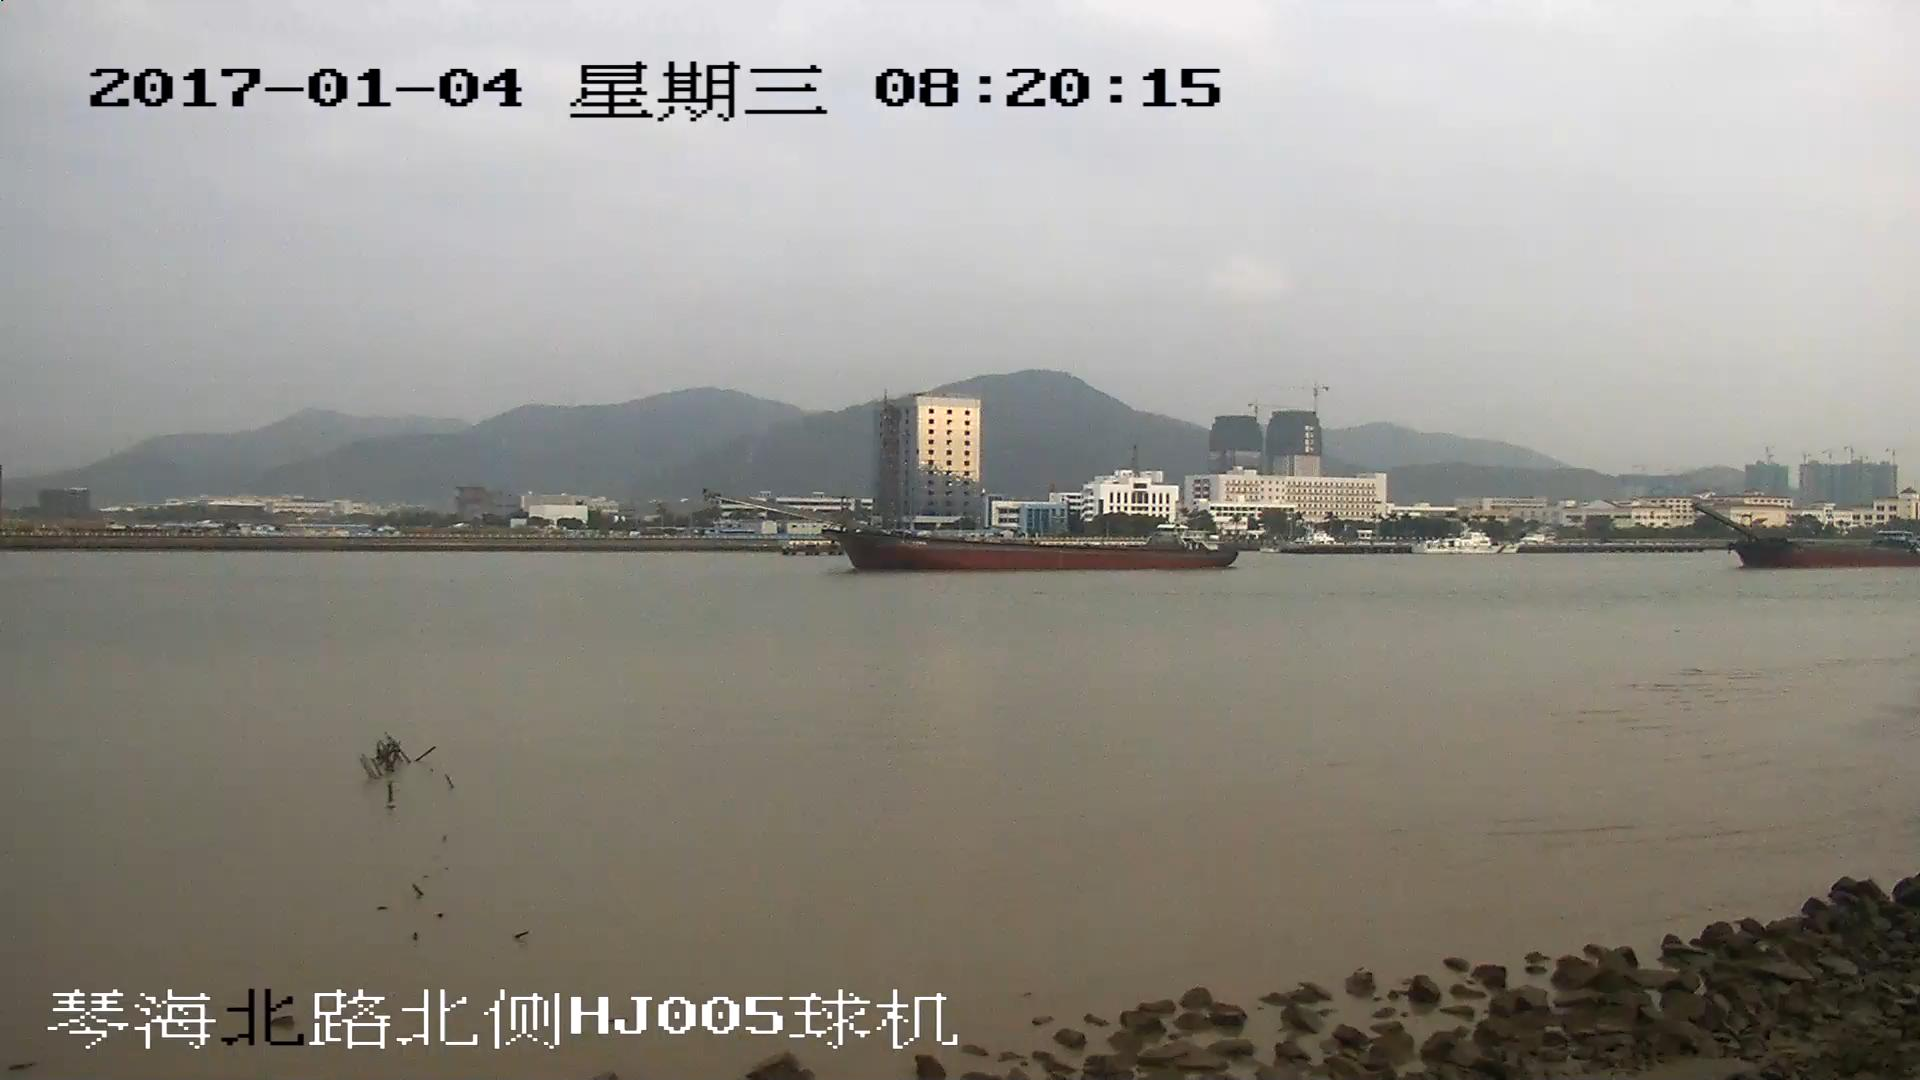bulk cargo carrier: (711, 492, 1237, 570), (1694, 503, 1920, 572)
